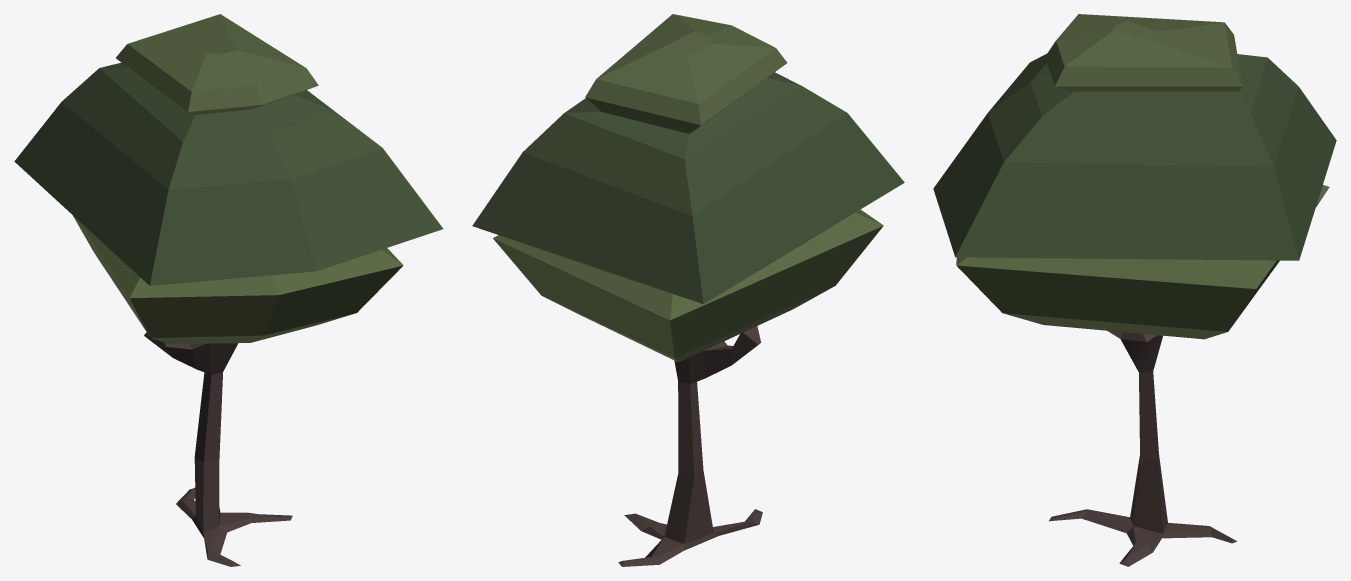
Rendered from tree_1.fbx.
3 views of the same model, side by side, from view 1: azimuth 30°, elevation 25°; view 2: azimuth 150°, elevation 25°; view 3: azimuth 270°, elevation 25° (orthographic). The views are drawn at different scales.
Parts seen in each view (by area): view 1: pCube6; view 2: pCube6; view 3: pCube6.
Boxes of the visible parts, <box> form: pCube6: <box>14,14,443,566</box>; pCube6: <box>472,14,904,566</box>; pCube6: <box>933,14,1336,566</box>.
Bounding box in the file's own units: 6.08 × 10.19 × 7.39.
